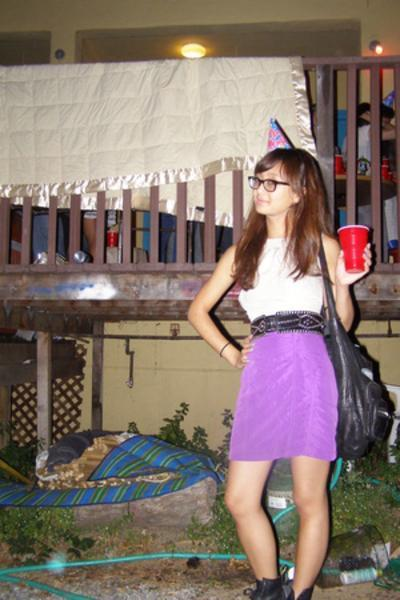bag: (321, 281, 399, 461)
shirt: (239, 237, 323, 321)
shoe: (252, 564, 293, 599)
skirt: (229, 331, 338, 467)
